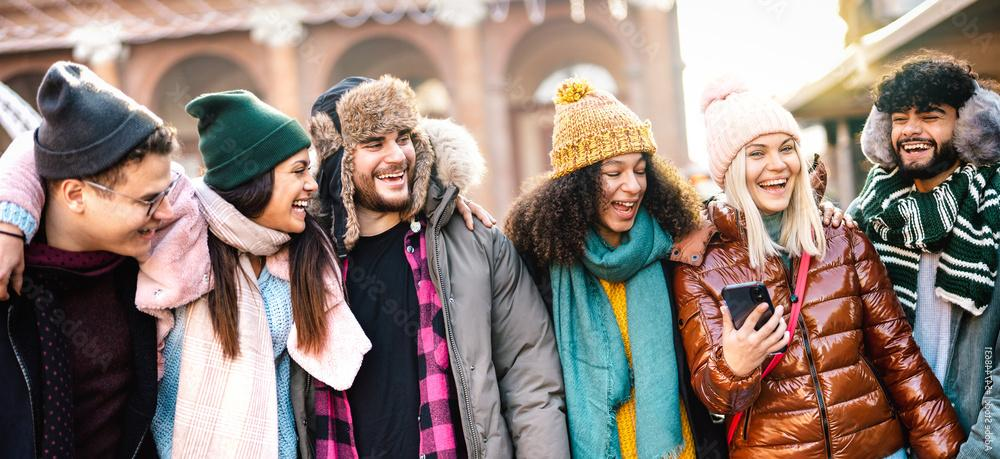coat: (285, 101, 569, 459), (676, 155, 968, 459)
